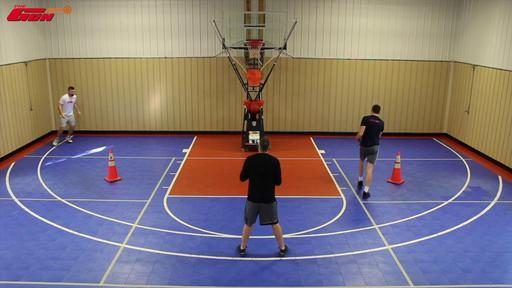human: (236, 138, 289, 256), (356, 104, 384, 198), (52, 86, 81, 147)
rim: (243, 38, 265, 57)
